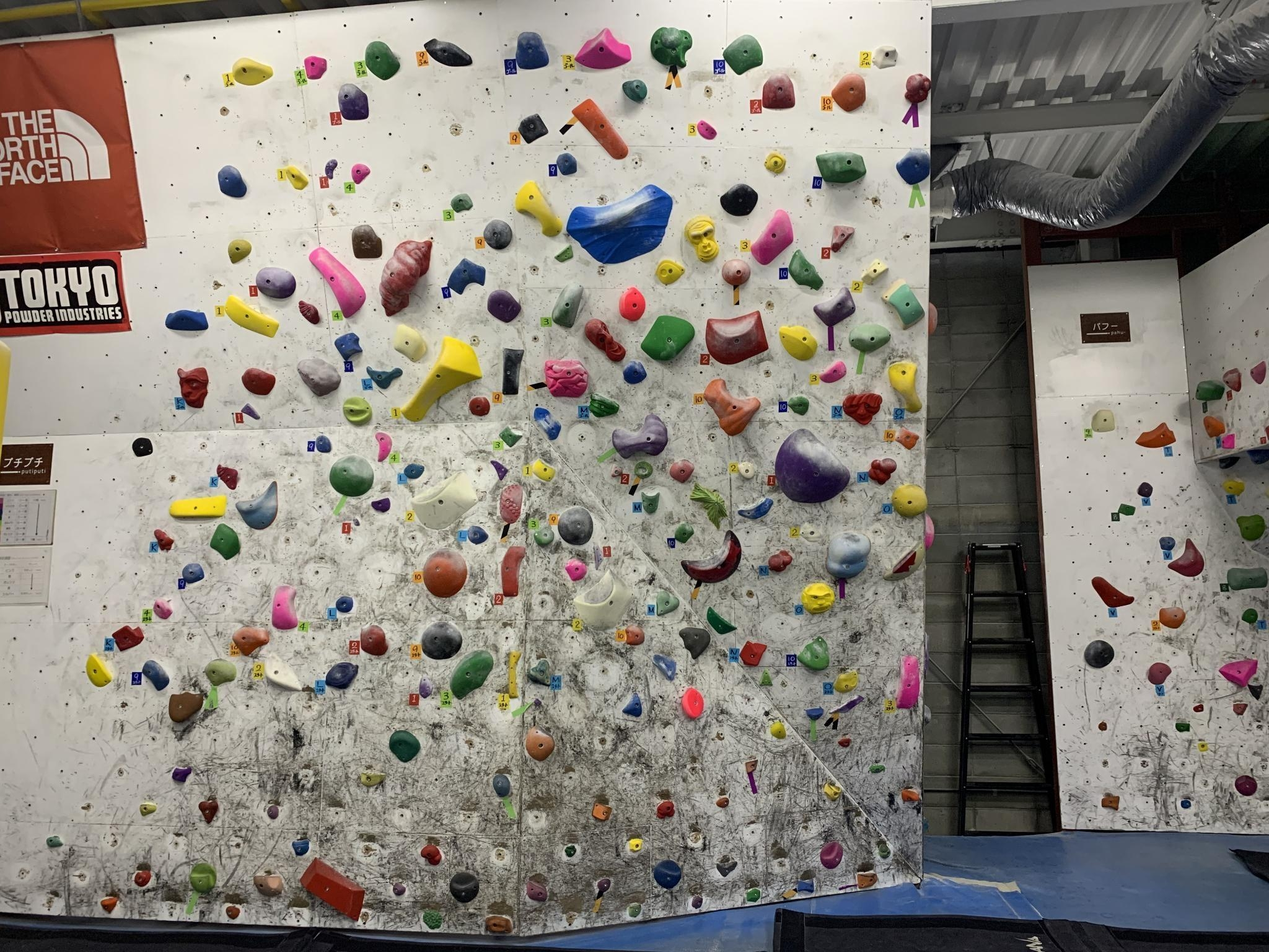hold: (566, 184, 672, 263), (401, 336, 481, 421), (775, 429, 850, 503), (380, 239, 432, 315), (309, 247, 365, 317), (300, 858, 364, 919), (411, 471, 478, 529), (573, 570, 632, 628), (572, 99, 628, 159), (706, 311, 768, 364), (681, 531, 742, 584), (704, 379, 760, 435), (514, 181, 562, 236), (612, 413, 667, 458), (750, 208, 793, 265), (641, 315, 694, 361), (575, 29, 631, 69), (225, 296, 279, 337), (422, 549, 467, 597), (450, 650, 493, 699), (882, 279, 924, 328), (827, 531, 870, 578), (235, 481, 277, 529), (329, 456, 374, 496), (584, 319, 625, 361), (650, 27, 692, 68), (813, 286, 855, 327), (888, 361, 921, 412), (684, 214, 719, 262), (297, 358, 341, 396), (544, 359, 588, 397), (690, 483, 727, 527), (884, 542, 925, 580), (816, 151, 866, 182), (723, 35, 762, 74), (421, 622, 462, 659), (551, 282, 584, 327), (447, 258, 485, 294), (365, 41, 400, 80), (831, 73, 866, 112), (424, 38, 472, 66), (1168, 539, 1204, 576), (779, 325, 817, 360), (558, 506, 592, 545), (788, 250, 822, 289), (255, 267, 296, 299), (1091, 576, 1133, 607), (392, 324, 427, 361), (265, 656, 302, 691), (169, 495, 226, 517), (720, 183, 758, 216), (843, 393, 882, 425), (177, 367, 208, 407), (501, 545, 525, 596), (895, 148, 929, 184), (897, 656, 920, 708), (849, 324, 890, 353), (762, 73, 795, 109), (271, 585, 298, 629), (516, 32, 548, 69), (231, 57, 273, 85), (891, 485, 928, 516), (487, 289, 520, 322), (801, 582, 835, 614), (338, 84, 368, 120), (210, 523, 240, 559), (1219, 659, 1257, 687), (232, 627, 270, 655), (797, 637, 829, 670), (351, 224, 382, 258), (169, 692, 203, 722), (217, 165, 247, 198), (502, 348, 523, 394), (389, 730, 419, 762), (525, 727, 554, 760), (165, 309, 208, 331), (1136, 423, 1175, 447), (679, 627, 709, 658), (449, 871, 479, 902), (325, 661, 358, 689), (533, 407, 561, 440), (499, 484, 522, 524), (1227, 568, 1268, 590), (483, 219, 512, 250), (242, 368, 275, 395), (619, 286, 645, 320), (652, 860, 682, 889), (360, 625, 388, 656), (141, 659, 169, 690), (86, 653, 112, 686), (519, 114, 548, 143), (342, 396, 372, 424), (1084, 640, 1114, 668), (204, 659, 236, 685), (737, 496, 773, 519), (366, 366, 402, 389), (721, 258, 750, 286), (706, 607, 735, 634), (335, 332, 362, 361), (905, 73, 931, 103), (190, 863, 216, 893), (113, 625, 144, 650), (868, 457, 896, 484), (655, 258, 684, 284), (589, 392, 619, 417), (1237, 514, 1265, 540), (253, 873, 283, 897), (652, 653, 677, 681), (1195, 379, 1225, 402), (681, 687, 703, 718), (861, 259, 888, 284), (820, 840, 843, 869), (740, 641, 766, 666), (527, 658, 551, 685), (830, 225, 854, 252), (284, 165, 309, 190), (830, 695, 863, 713), (508, 650, 520, 698), (227, 239, 251, 263), (656, 590, 679, 615), (872, 45, 897, 68), (622, 79, 647, 102), (767, 550, 793, 572), (820, 360, 846, 382), (1158, 607, 1185, 628), (485, 914, 513, 934), (623, 360, 646, 384), (1147, 662, 1171, 685), (1091, 409, 1115, 432), (216, 465, 239, 489), (564, 558, 587, 581), (304, 56, 327, 79), (669, 460, 693, 482), (834, 670, 858, 692), (198, 798, 219, 823), (532, 459, 555, 481), (1203, 415, 1225, 438), (764, 151, 786, 174), (375, 432, 392, 461), (525, 880, 547, 902), (420, 843, 442, 865), (1234, 775, 1257, 796), (299, 301, 320, 324), (556, 152, 577, 175), (492, 773, 511, 798), (532, 526, 554, 547), (182, 563, 204, 584), (623, 693, 642, 717), (359, 770, 385, 787), (896, 429, 918, 449), (499, 427, 522, 446), (641, 490, 659, 514), (716, 857, 737, 877), (422, 909, 442, 930), (788, 395, 809, 415), (1223, 368, 1241, 391), (923, 514, 935, 548), (451, 193, 472, 212), (154, 529, 173, 550), (696, 120, 717, 139), (800, 523, 822, 541), (592, 802, 612, 821), (153, 599, 172, 619), (132, 438, 152, 457), (351, 164, 370, 184), (856, 870, 877, 888), (1250, 361, 1266, 384), (675, 522, 693, 542), (626, 625, 644, 645), (468, 526, 488, 544), (1247, 447, 1268, 464), (1222, 480, 1245, 495), (656, 800, 675, 818), (823, 782, 841, 801), (403, 463, 424, 479), (928, 302, 938, 335), (634, 461, 652, 479), (335, 596, 354, 613), (555, 245, 574, 262), (491, 460, 507, 480), (418, 677, 433, 698), (738, 461, 756, 478), (770, 720, 786, 739), (1101, 793, 1120, 809), (315, 435, 332, 452), (292, 839, 309, 856), (100, 896, 118, 912), (371, 497, 390, 512), (172, 767, 191, 782), (134, 870, 151, 886), (923, 632, 929, 677), (242, 404, 260, 419), (1219, 456, 1239, 469), (1159, 536, 1175, 552), (139, 801, 156, 816), (877, 840, 891, 858), (1241, 609, 1257, 624), (596, 878, 611, 894), (225, 904, 241, 919), (325, 159, 337, 179), (806, 707, 823, 721), (902, 788, 920, 801), (1248, 684, 1263, 699), (1138, 482, 1153, 497), (627, 903, 641, 919), (797, 879, 814, 892), (46, 835, 63, 848), (922, 703, 932, 725), (745, 888, 760, 902), (1221, 433, 1234, 449), (628, 838, 642, 852), (392, 882, 406, 896), (760, 670, 773, 685), (690, 895, 703, 910), (266, 804, 279, 819), (1118, 504, 1135, 515), (594, 546, 602, 569), (1233, 702, 1247, 715), (564, 844, 577, 857), (745, 759, 757, 773), (1175, 721, 1190, 732), (869, 764, 885, 774), (716, 796, 729, 808), (611, 465, 622, 478), (838, 736, 851, 747), (922, 814, 929, 834), (1198, 741, 1208, 751), (1193, 703, 1204, 712), (1181, 799, 1191, 808), (533, 698, 542, 707), (1098, 721, 1107, 730), (1264, 423, 1268, 441), (353, 518, 359, 526)
